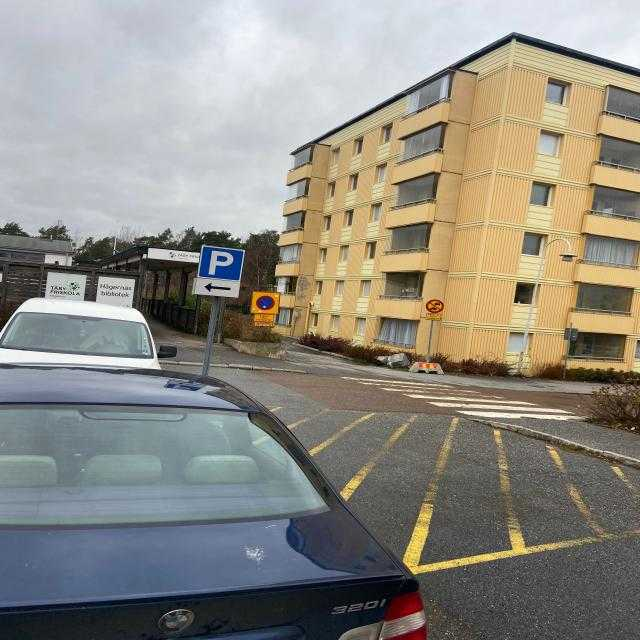psign: (196, 242, 245, 284)
